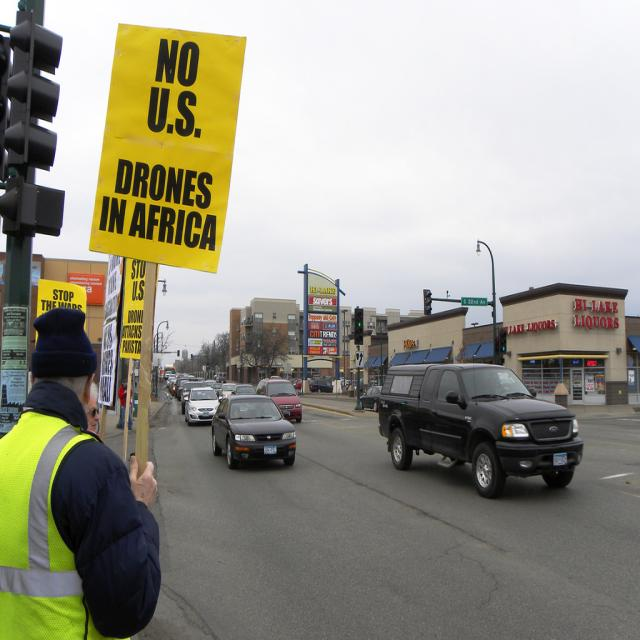car: (377, 361, 582, 499)
